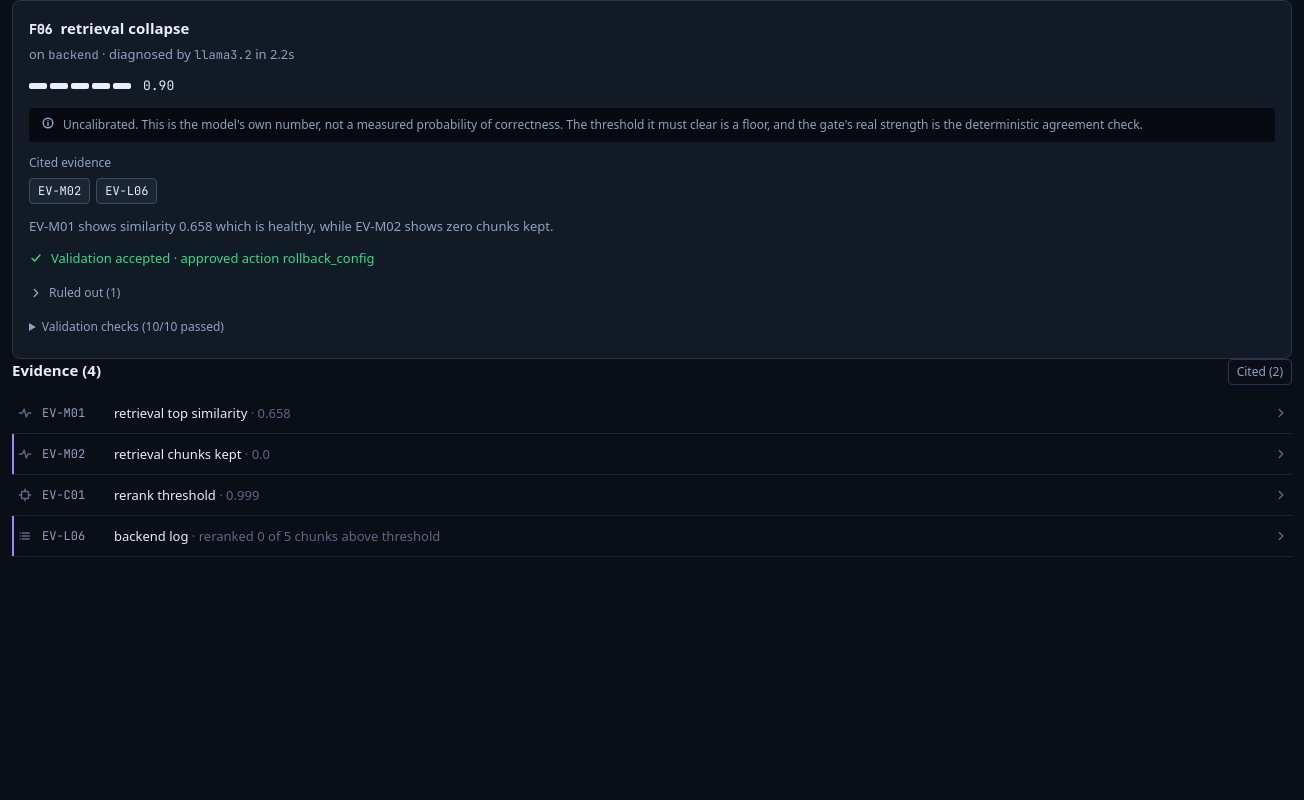
evidence › opens the cited evidence item when a diagnosis citation is clicked
This screenshot has width=1304, height=800.
// The citation is a real button, not a link to somewhere else.
Click the button "EV-M02" at (60, 191), box [29,178,90,204]
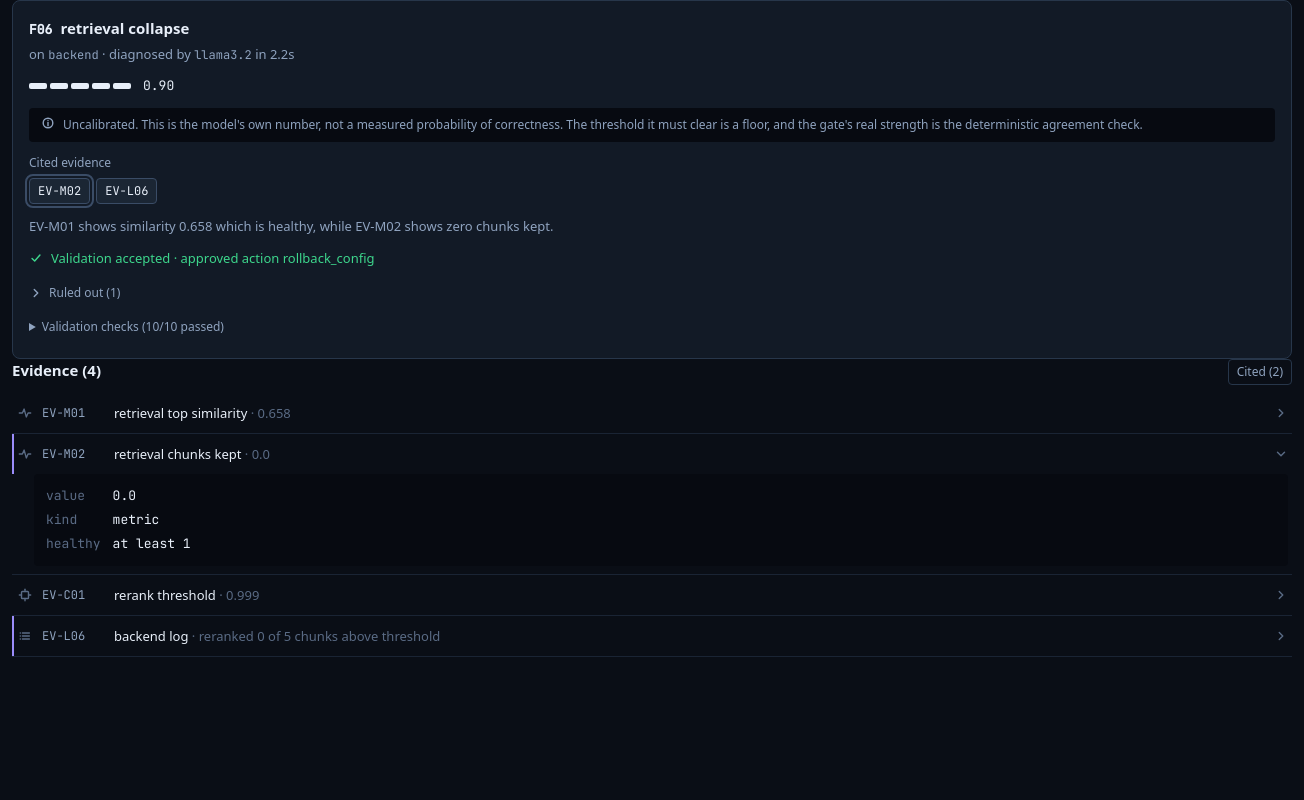
Result: the text "healthy" is shown at [46,534,101,554]
Result: the text "at least 1" is shown at [113,535,191,552]
